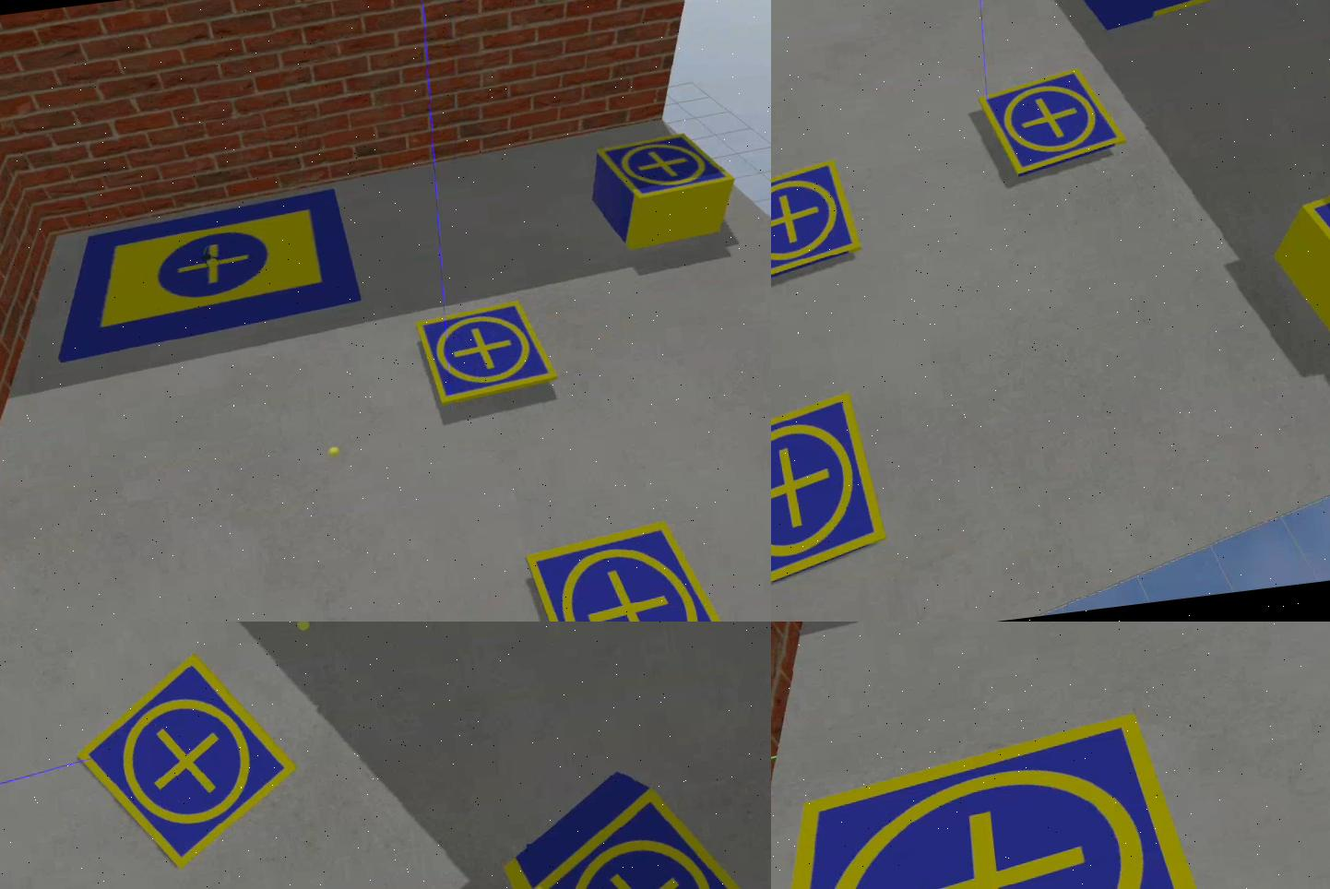large_base: (45, 190, 371, 362), (995, 1, 1293, 44)
small_base: (772, 707, 1249, 889), (69, 643, 307, 883), (511, 773, 772, 889), (772, 389, 897, 604), (527, 512, 740, 622), (980, 67, 1130, 184), (416, 299, 563, 408), (772, 160, 864, 290), (598, 130, 738, 209)
